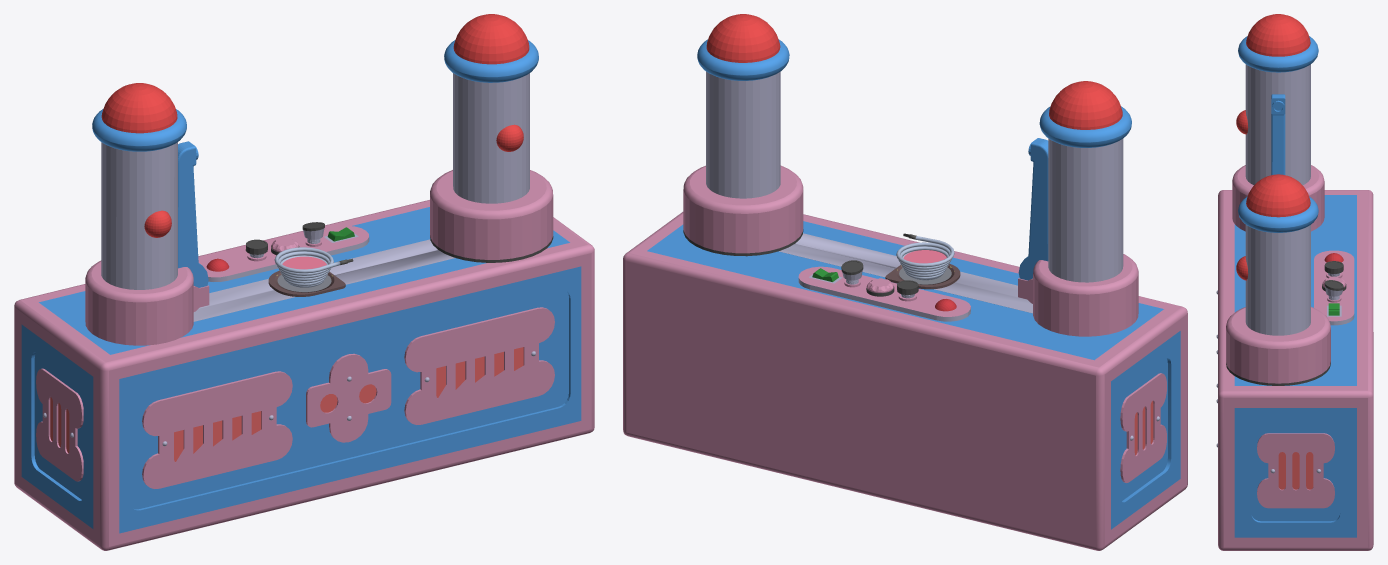
The model's file is Tubby Custard Machine.fbx.
3 views of the same model, side by side, from view 1: azimuth 30°, elevation 25°; view 2: azimuth 150°, elevation 25°; view 3: azimuth 270°, elevation 25° (orthographic). The views are drawn at different scales.
Parts seen in each view (by area): view 1: custard_machine, custard_machine.light.002, custard_machine.light.001, custard_machine.pipe, bowl, custard_machine.door.002; view 2: custard_machine, custard_machine.light.001, custard_machine.light.002, custard_machine.pipe, bowl, custard_machine.door.001; view 3: custard_machine, custard_machine.light.002, custard_machine.light.001, custard_machine.pipe, custard_machine.lever.001, custard_machine.lever.002.
Part boxes in pixels (x1,y1,x2,y2): custard_machine: (14,40,594,550); custard_machine.light.002: (36,307,554,488); custard_machine.light.001: (101,14,529,237); custard_machine.pipe: (178,141,208,287); bowl: (274,247,353,292); custard_machine.door.002: (438,213,466,260); custard_machine: (623,39,1187,550); custard_machine.light.001: (706,14,1122,129); custard_machine.light.002: (1120,373,1166,482); custard_machine.pipe: (1018,138,1048,280); bowl: (896,233,954,284); custard_machine.door.001: (767,208,795,253); custard_machine: (1218,36,1373,550); custard_machine.light.002: (1216,290,1334,508); custard_machine.light.001: (1236,14,1310,280); custard_machine.pipe: (1271,94,1285,175); custard_machine.lever.001: (1324,280,1343,300); custard_machine.lever.002: (1324,261,1343,276).
Bounding box in the file's own units: 438 × 359 × 141.
